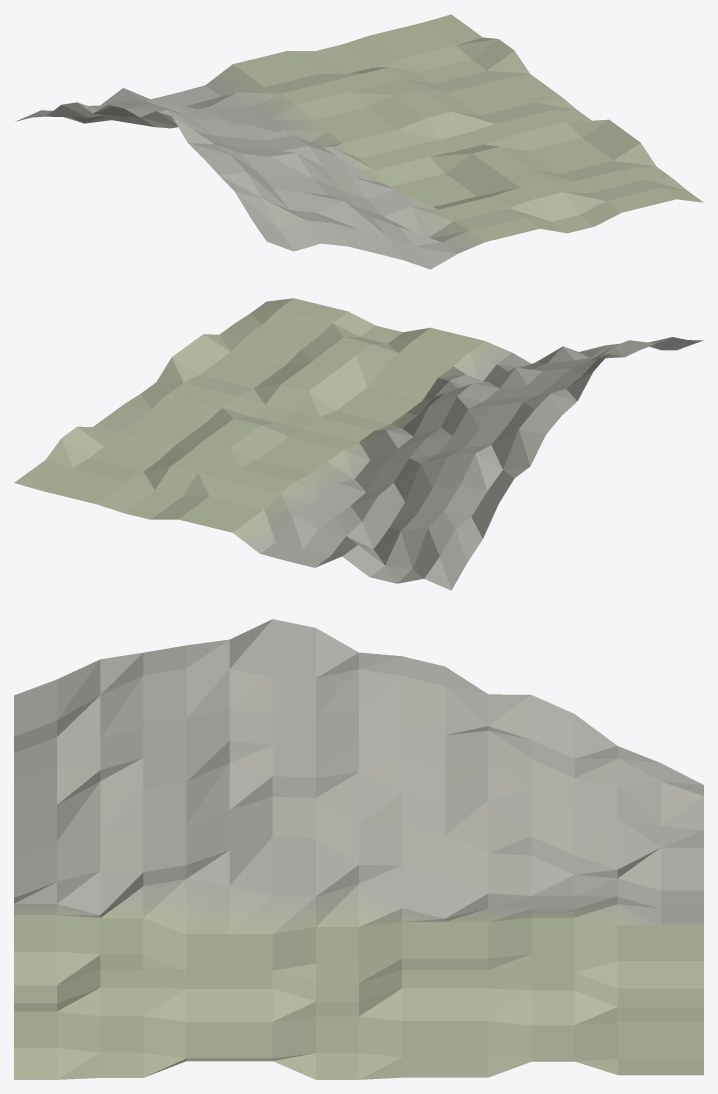
The picture shows the model from 3 angles, top to bottom: view 1: azimuth 30°, elevation 25°; view 2: azimuth 150°, elevation 25°; view 3: azimuth 270°, elevation 25°; orthographic projection. The views are drawn at different scales.
Bounding box in the file's own units: 32 × 9.23 × 32.
